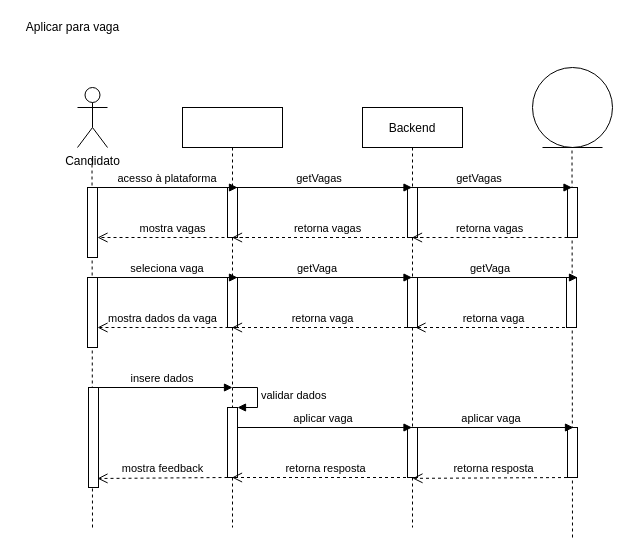
The diagram is 630 pixels wide and 556 high, and some of its shapes have lost their labels. Each missing label, with the box of its shape:
UI: (182, 106, 282, 528)
Vagas: (532, 66, 612, 148)
